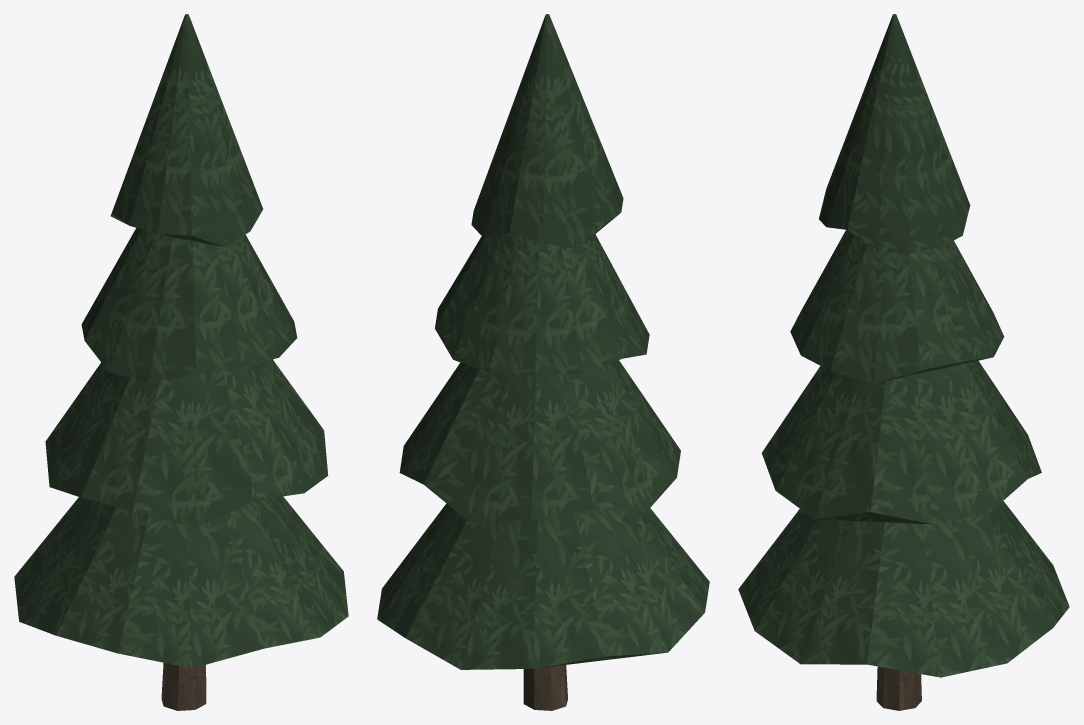
The model's file is Furn_Tree_Pine.fbx.
3 renders of one model, left to right at view 1: azimuth 30°, elevation 25°; view 2: azimuth 150°, elevation 25°; view 3: azimuth 270°, elevation 25°, orthographic.
Parts seen in each view (by area): view 1: Furn_Tree_Pine_Mesh; view 2: Furn_Tree_Pine_Mesh; view 3: Furn_Tree_Pine_Mesh.
Part boxes in pixels (bbox=[...]): Furn_Tree_Pine_Mesh: bbox=[14, 14, 348, 710]; Furn_Tree_Pine_Mesh: bbox=[377, 14, 709, 710]; Furn_Tree_Pine_Mesh: bbox=[738, 14, 1069, 710].
Bounding box in the file's own units: 3.5 × 8 × 3.5.
Materials: 2 (2 with a texture image).
